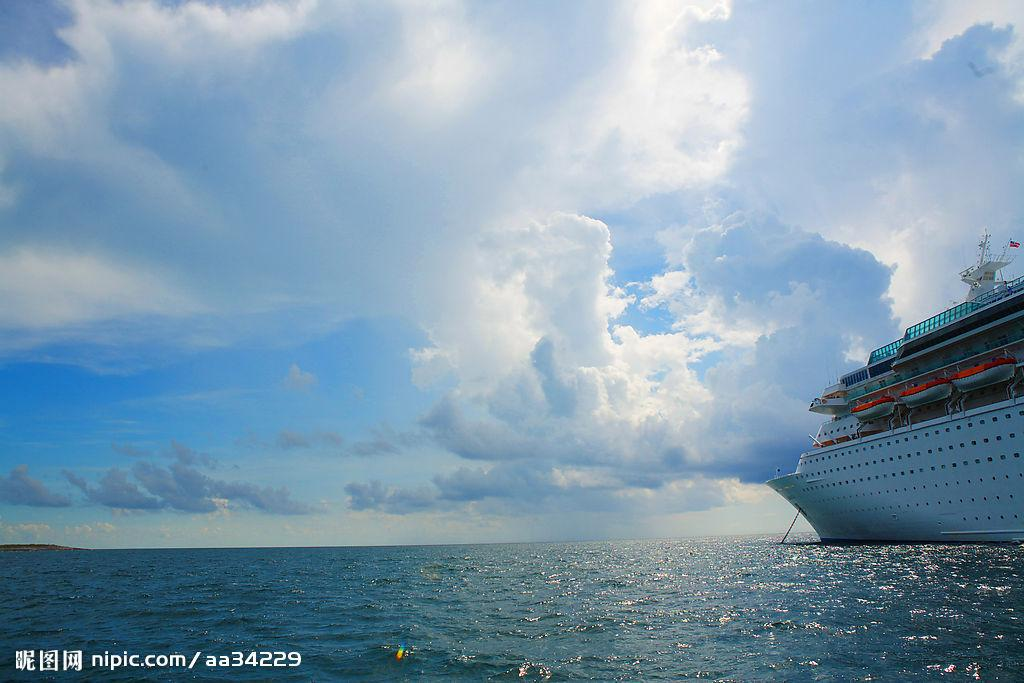youlun: (770, 232, 1024, 546)
